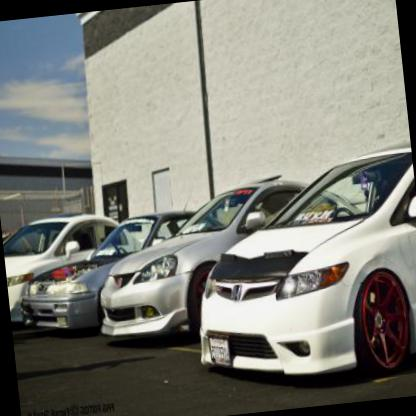car: (86, 164, 377, 350), (9, 180, 236, 336), (1, 204, 150, 325), (2, 226, 34, 256)
